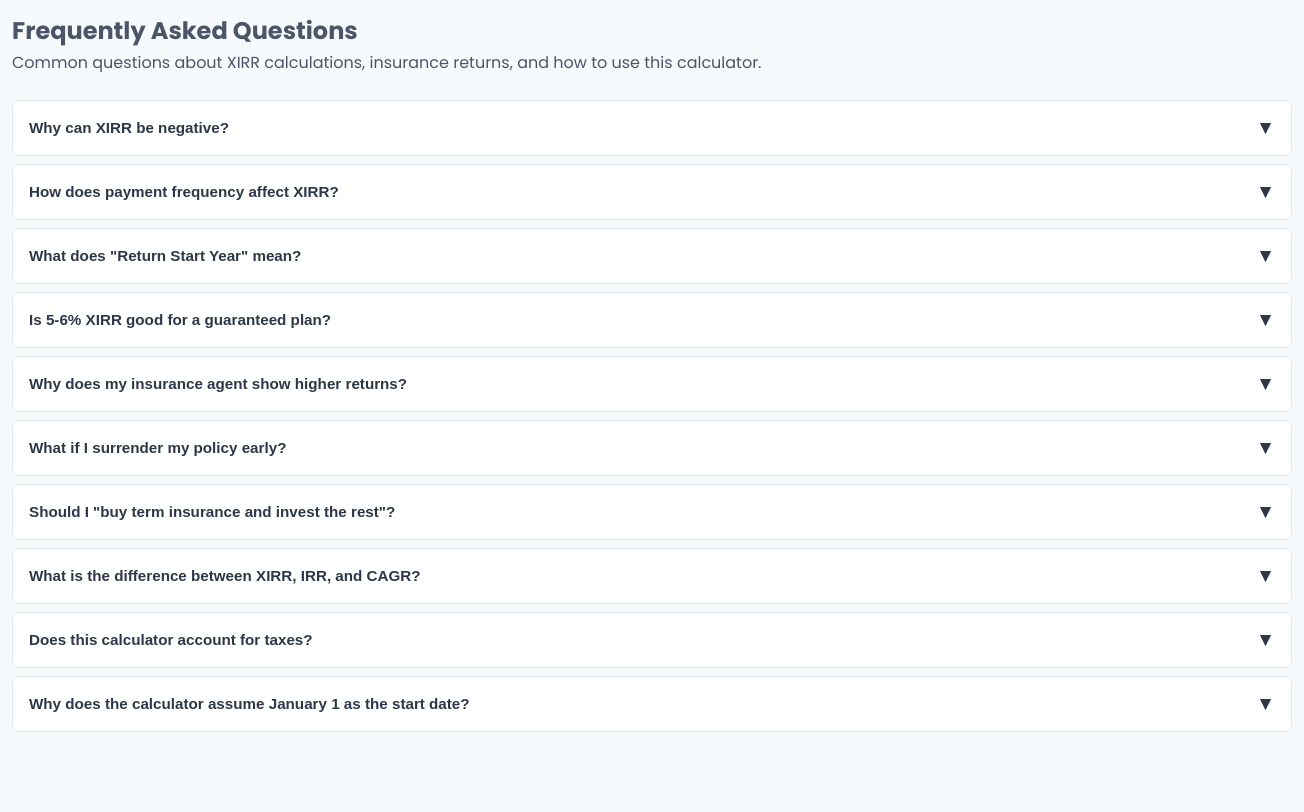
Test: FAQ Component › only shows one answer at a time
This screenshot has width=1304, height=812.
Open first question
Click the text "Why can XIRR be negative?" at (129, 128), box top-left (29, 120), bottom-right (229, 136)
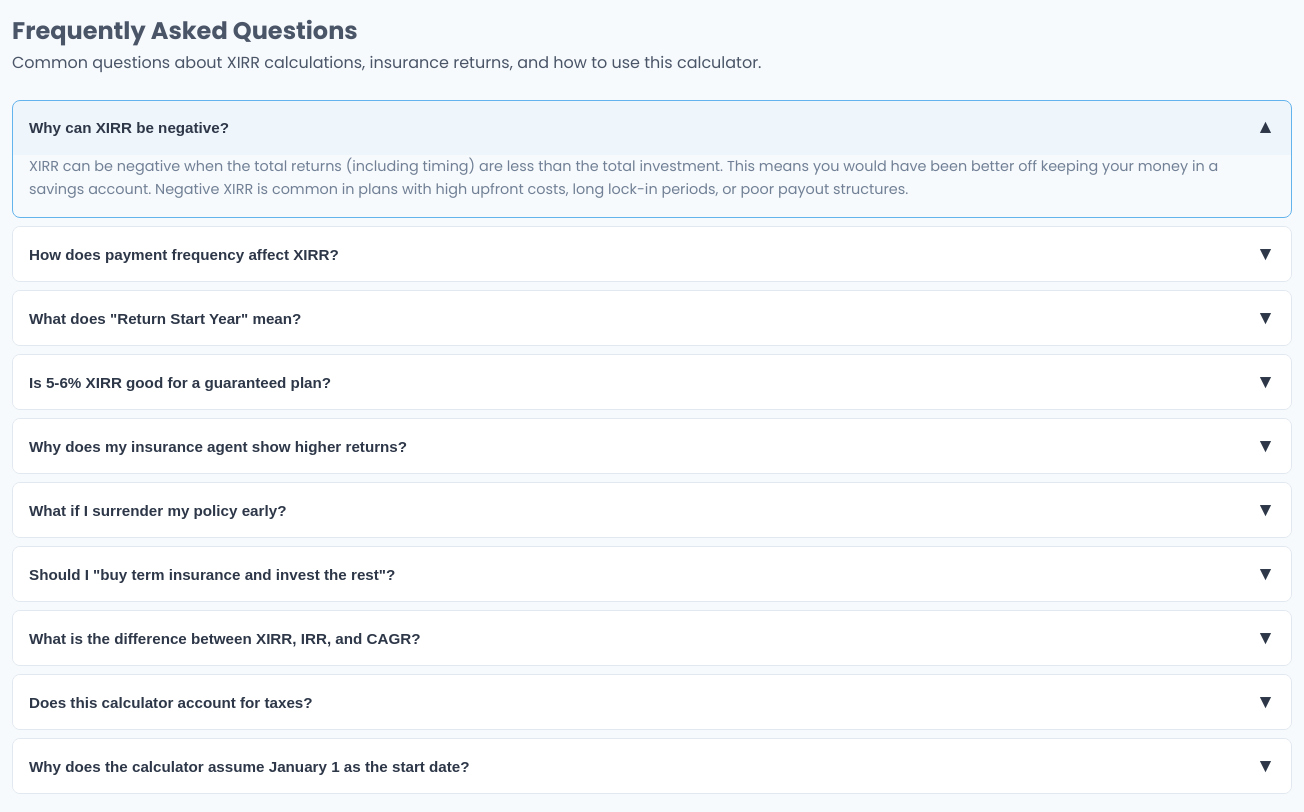
Expected: the text "XIRR can be negative when" is shown, top-left (29, 156), bottom-right (1218, 199)
Open second question — first should close
Click the text "How does payment frequency affect XIRR?" at (184, 254), box top-left (29, 246), bottom-right (339, 263)
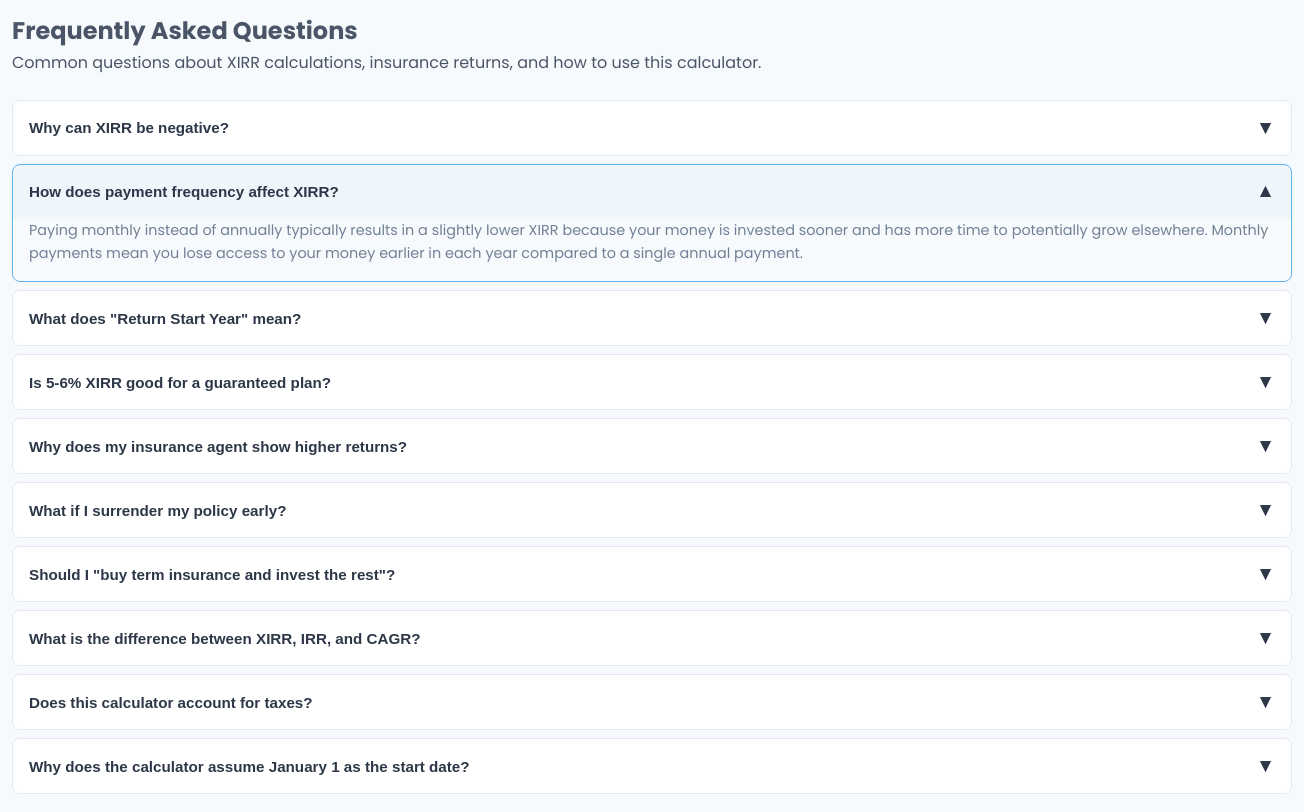
Expected: the text "XIRR can be negative when" is gone
Expected: the text "Paying monthly instead of annually" is shown, top-left (29, 220), bottom-right (1268, 263)
